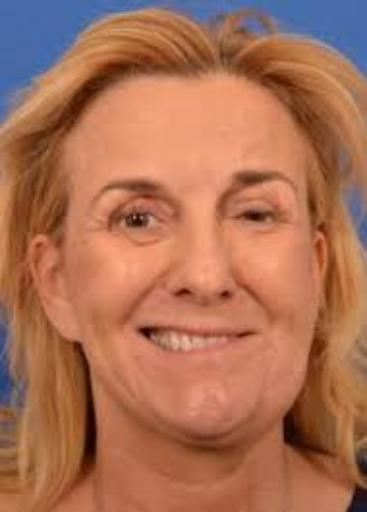left_eye: (234, 206, 281, 233)
left_lip_corner: (244, 324, 261, 344)
right_eye: (116, 209, 168, 234)
right_lip_corner: (132, 319, 149, 341)
